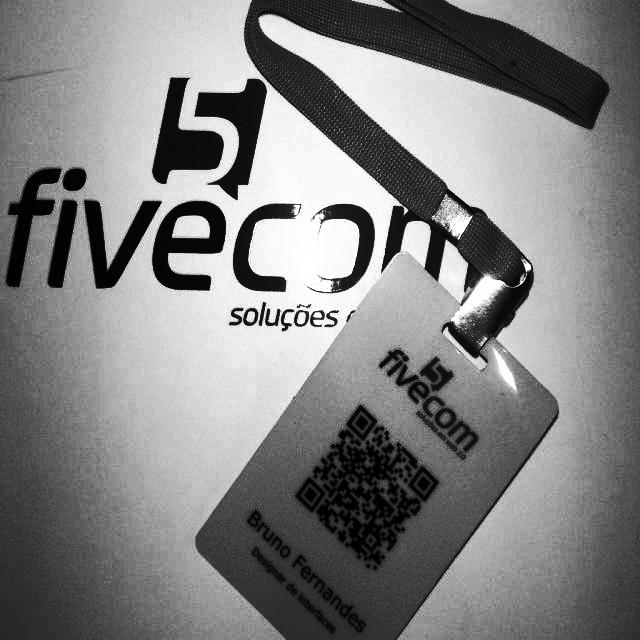qr_code: (296, 405, 439, 571)
